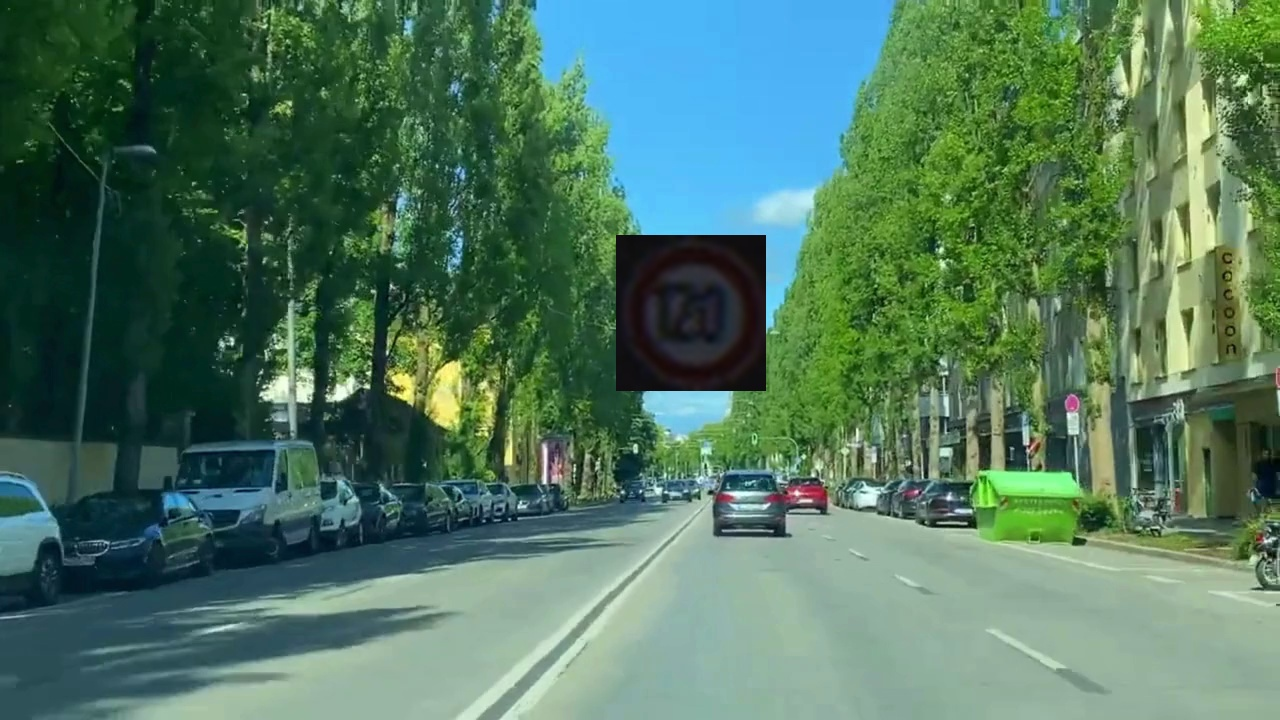Speed 120: (616, 235, 766, 391)
